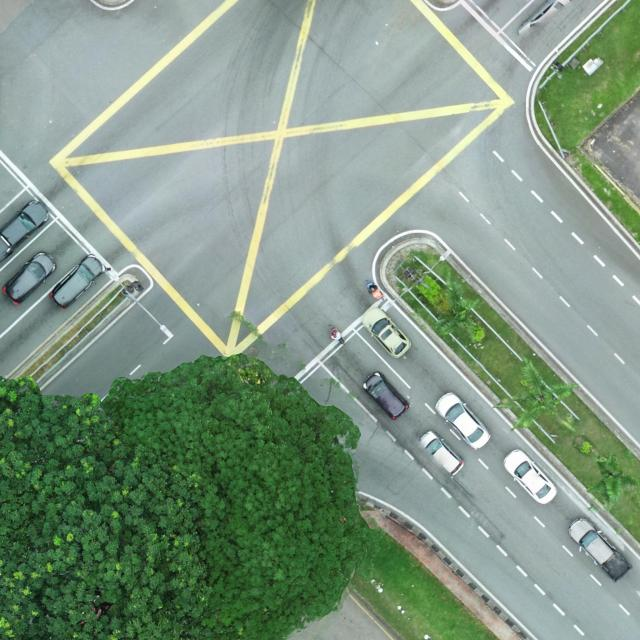Tree: (103, 353, 368, 640), (0, 370, 210, 640), (492, 355, 582, 432), (434, 270, 484, 341), (586, 452, 639, 512)
